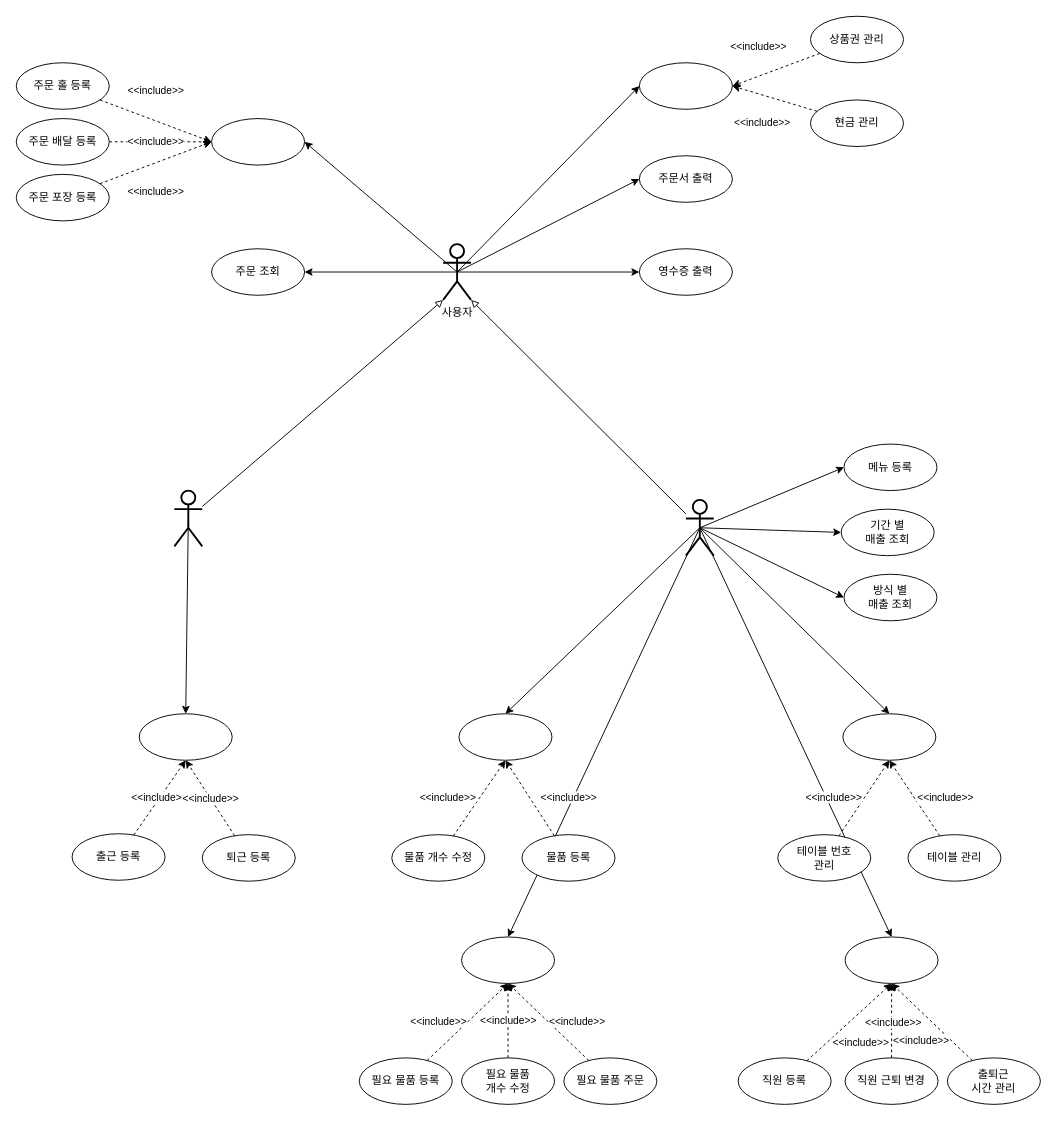
This 1057x1121 diagram has some shape labels left out. The shapes that lost their labels are listed below. From the top down, each one's centre as x and y in pixels, then its label:
At [685,85]: "잔액 조회".
At [258,141]: "주문 등록".
At [188,518]: "직원".
At [699,527]: "사장".
At [185,736]: "근퇴 조회".
At [505,736]: "물품 조회".
At [889,736]: "테이블 조회".
At [508,959]: "필요 물품 조회".
At [891,959]: "직원 조회".
